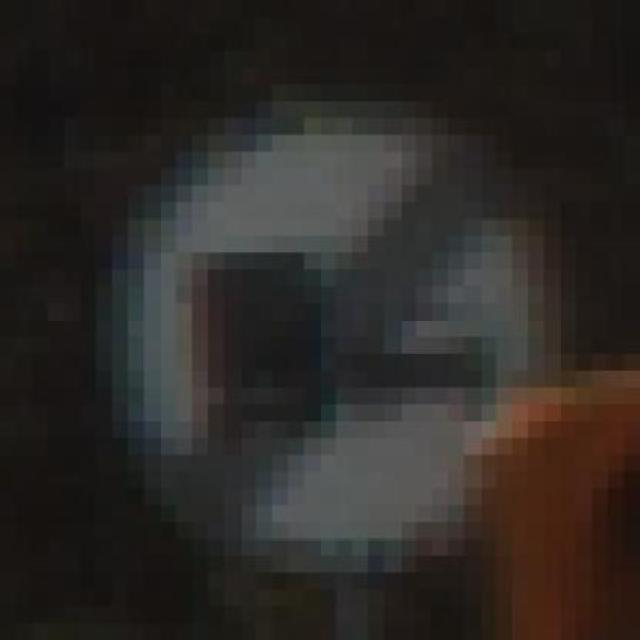Overtaking by trucks is prohibited: (80, 67, 592, 573)
